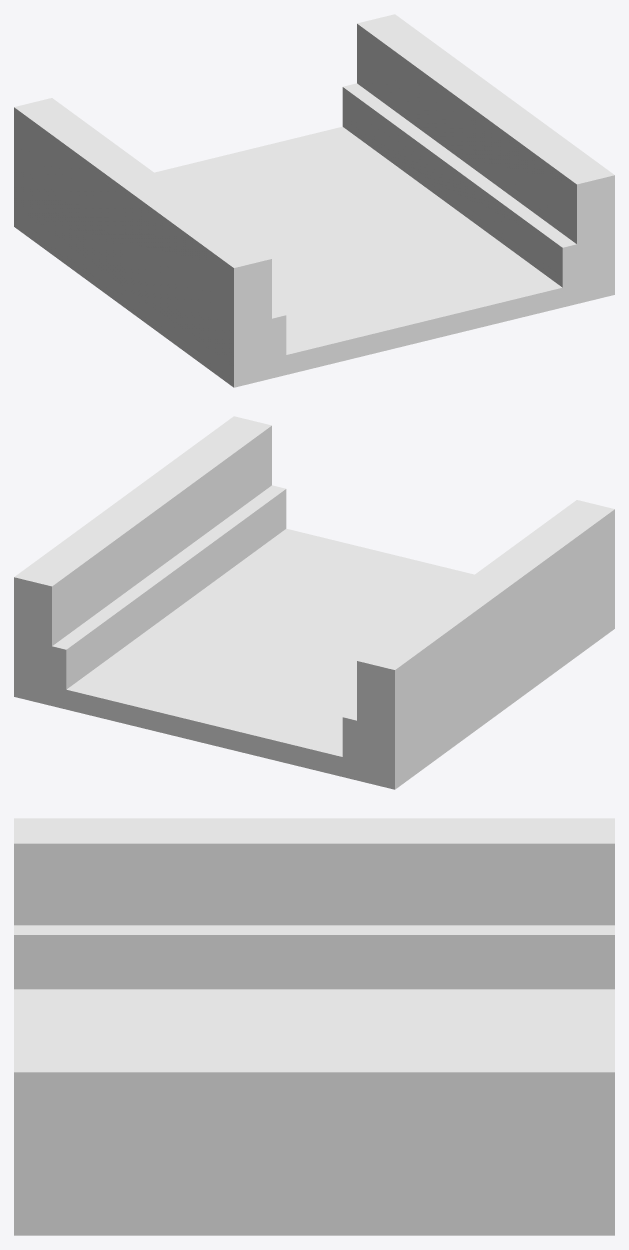
File: channel.glb
3 renders of one model, top to bottom at view 1: azimuth 30°, elevation 25°; view 2: azimuth 150°, elevation 25°; view 3: azimuth 270°, elevation 25°, orthographic. The views are drawn at different scales.
Parts seen in each view (by area): view 1: Channel; view 2: Channel; view 3: Channel.
Part boxes in pixels (x1,y1,x2,y2): Channel: [14, 14, 614, 387]; Channel: [14, 416, 614, 789]; Channel: [14, 818, 614, 1235].
Bounding box in the file's own units: 4 × 1.2 × 4.
1 material, 1 textured.
